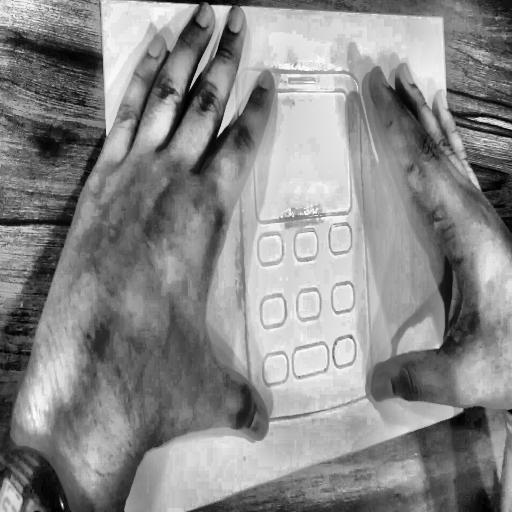bottom_right: (459, 404, 467, 416)
mobile: (225, 14, 382, 439)
top_right: (440, 13, 446, 23)
